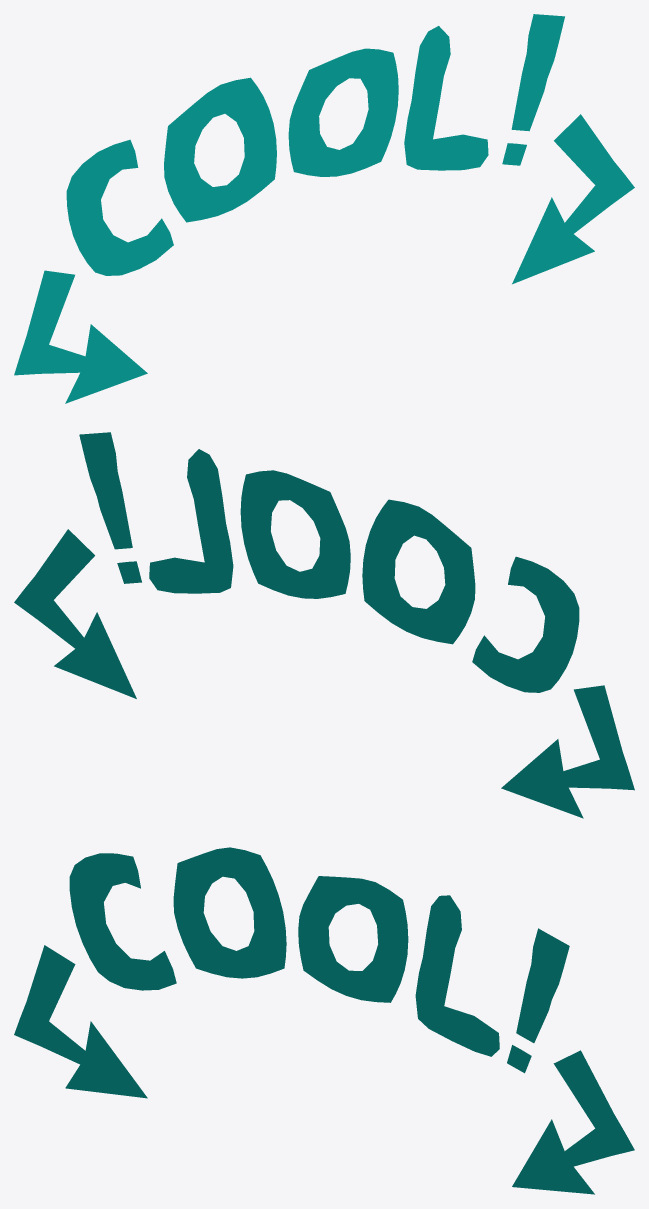
File: mesh_text_cool.fbx
3 views of the same model, one above another, from view 1: azimuth 30°, elevation 25°; view 2: azimuth 150°, elevation 25°; view 3: azimuth 330°, elevation 25° (orthographic).
Parts seen in each view (by area): view 1: mesh_text_cool2, mesh_text_cool, mesh_text_cool1; view 2: mesh_text_cool2, mesh_text_cool, mesh_text_cool1; view 3: mesh_text_cool2, mesh_text_cool, mesh_text_cool1.
Boxes of the visible parts, left/top/right/bottom form: mesh_text_cool2: left=66, top=14, right=564, bottom=275; mesh_text_cool: left=512, top=114, right=634, bottom=284; mesh_text_cool1: left=14, top=270, right=147, bottom=403; mesh_text_cool2: left=79, top=432, right=579, bottom=692; mesh_text_cool: left=14, top=529, right=136, bottom=698; mesh_text_cool1: left=501, top=685, right=634, bottom=818; mesh_text_cool2: left=69, top=847, right=569, bottom=1073; mesh_text_cool: left=512, top=1050, right=634, bottom=1194; mesh_text_cool1: left=14, top=945, right=147, bottom=1098.
Size of the model in its own units: 0.129 by 0.0559 by 0.00203.
